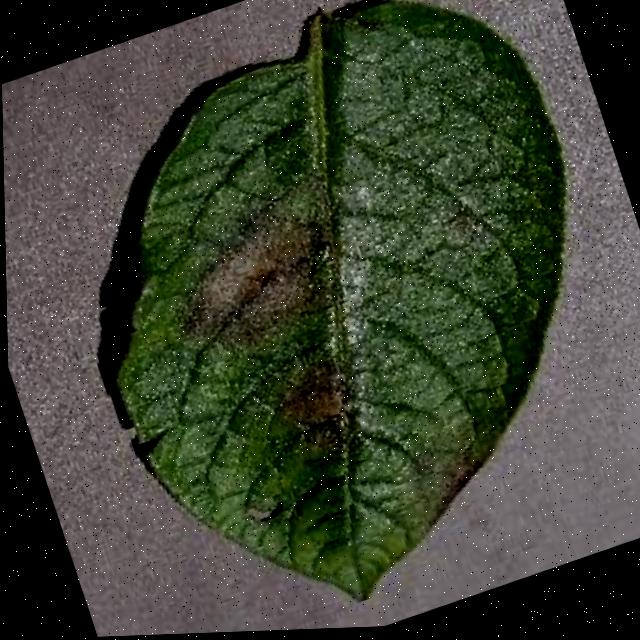Late_blight: (144, 165, 383, 380), (250, 346, 380, 483), (413, 430, 522, 534)
